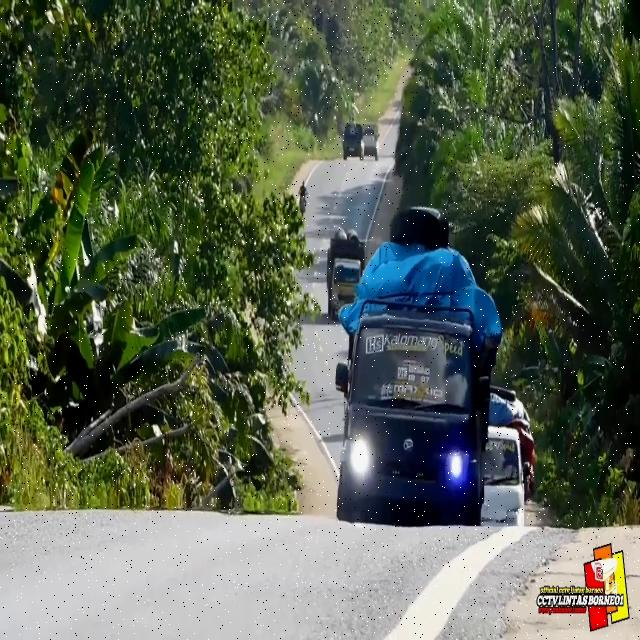Golongan IVB: (336, 298, 490, 525), (480, 427, 528, 528), (342, 122, 362, 161), (362, 121, 380, 159)
